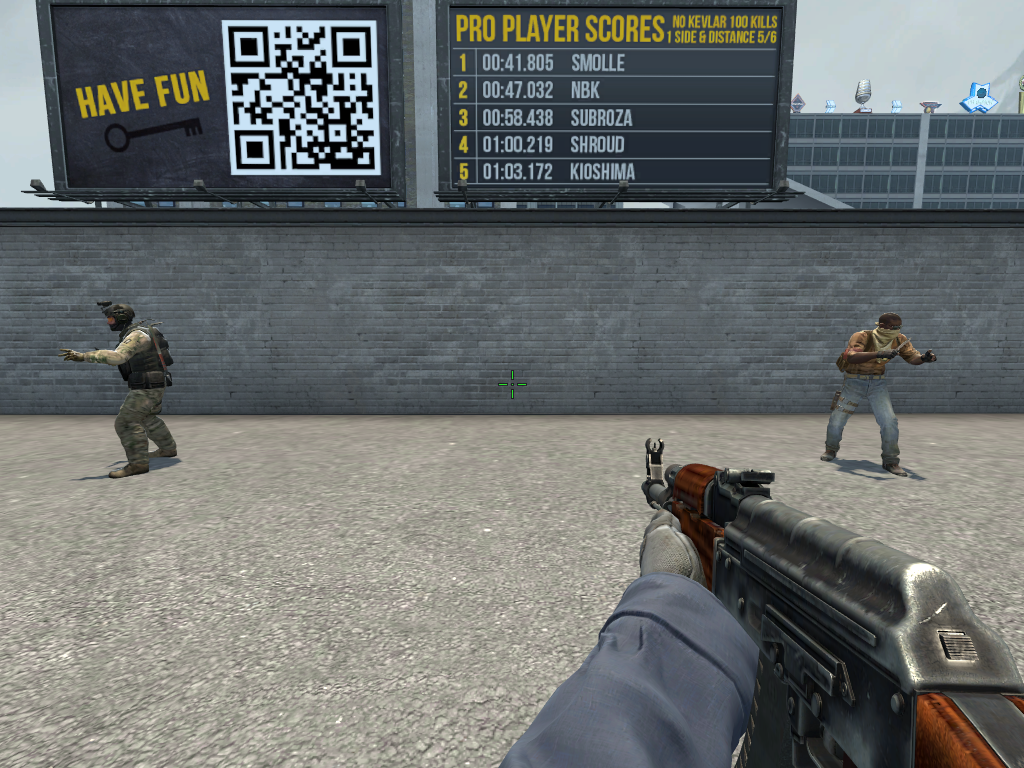ct head: (96, 296, 136, 333)
tr head: (874, 310, 904, 341)
